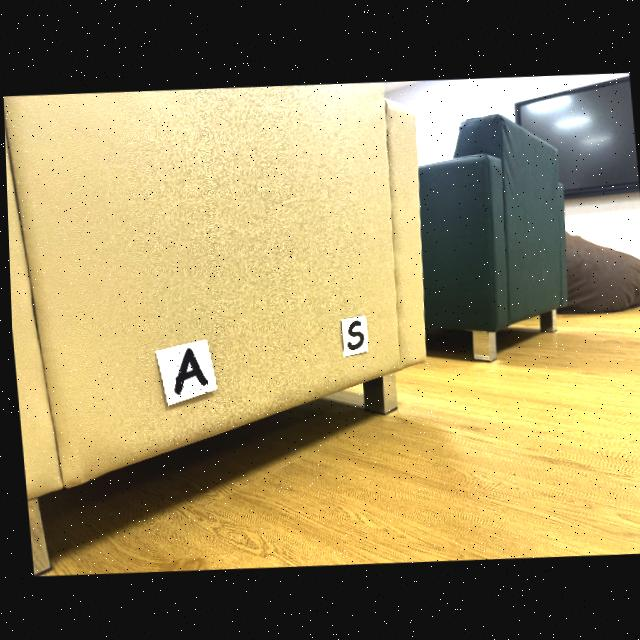A: (172, 348, 204, 393)
S: (345, 320, 362, 350)
